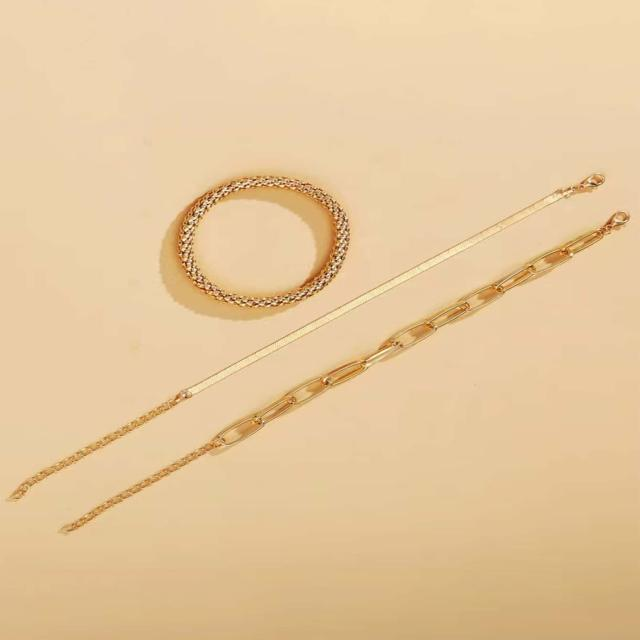bracelet: (1, 136, 640, 552)
